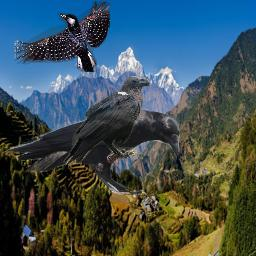Crow: (3, 108, 180, 195), (63, 76, 150, 165)
Woodpecker: (14, 1, 110, 72)
